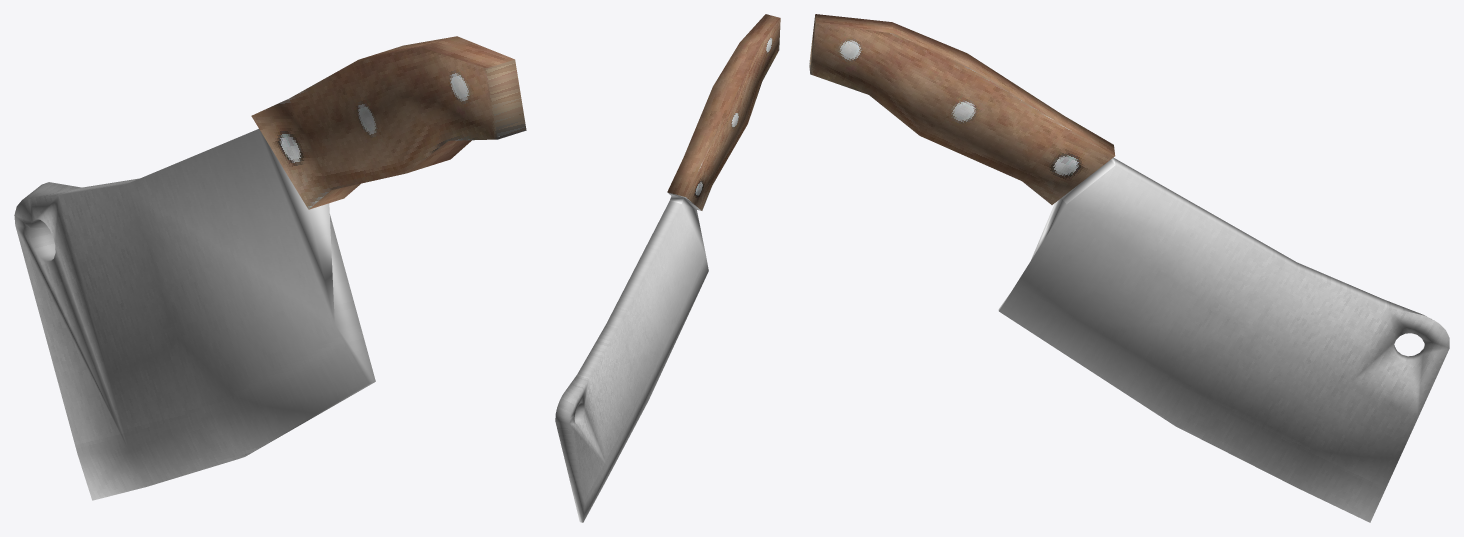
Rendered from butchersknife.glb.
3 renders of one model, left to right at view 1: azimuth 30°, elevation 25°; view 2: azimuth 150°, elevation 25°; view 3: azimuth 270°, elevation 25°, orthographic. The views are drawn at different scales.
Parts seen in each view (by area): view 1: Butcher; view 2: Butcher; view 3: Butcher.
Boxes of the visible parts, x1,y1,x2,y2 form: Butcher: (14, 36, 526, 500); Butcher: (555, 14, 780, 522); Butcher: (809, 14, 1449, 522).
Size of the model in its own units: 0.0701 by 0.7667 by 0.8766.
1 material, 1 textured.
